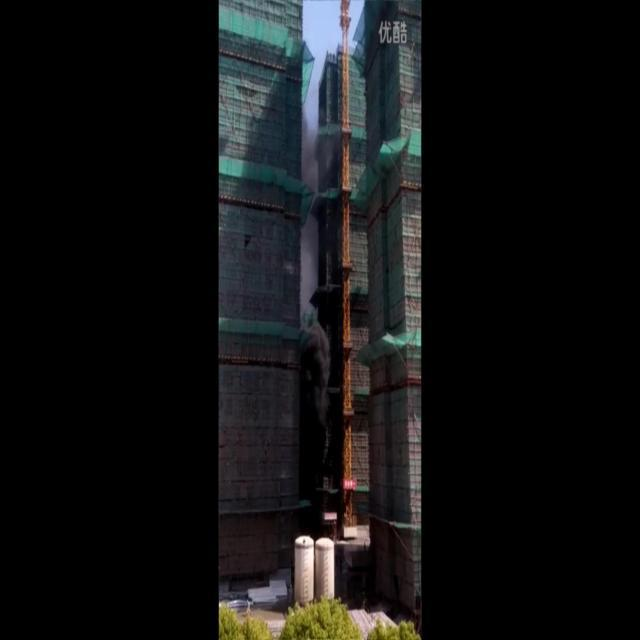Smoke: (302, 126, 324, 290), (308, 321, 334, 412)
